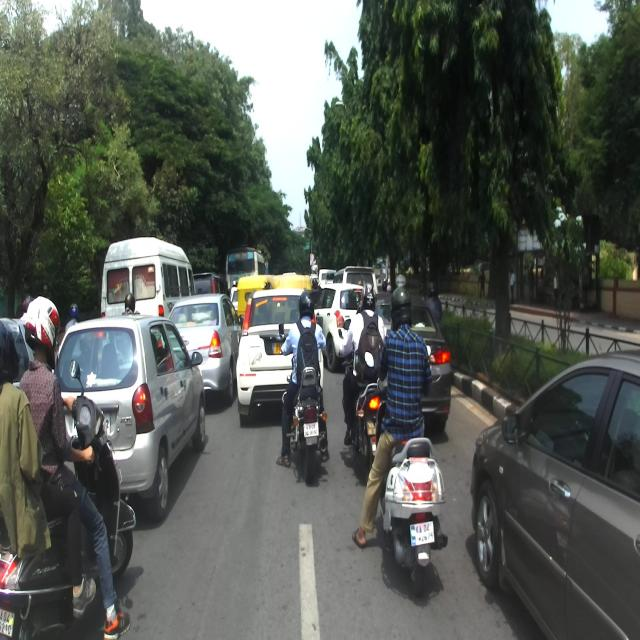car: (468, 346, 640, 639), (50, 313, 206, 523), (342, 292, 453, 436), (235, 286, 324, 426), (166, 292, 244, 406), (310, 281, 367, 372)
mini-bus: (100, 235, 197, 321)
motorcycle: (276, 322, 331, 485)
scooter: (0, 358, 137, 639), (364, 341, 448, 600)
